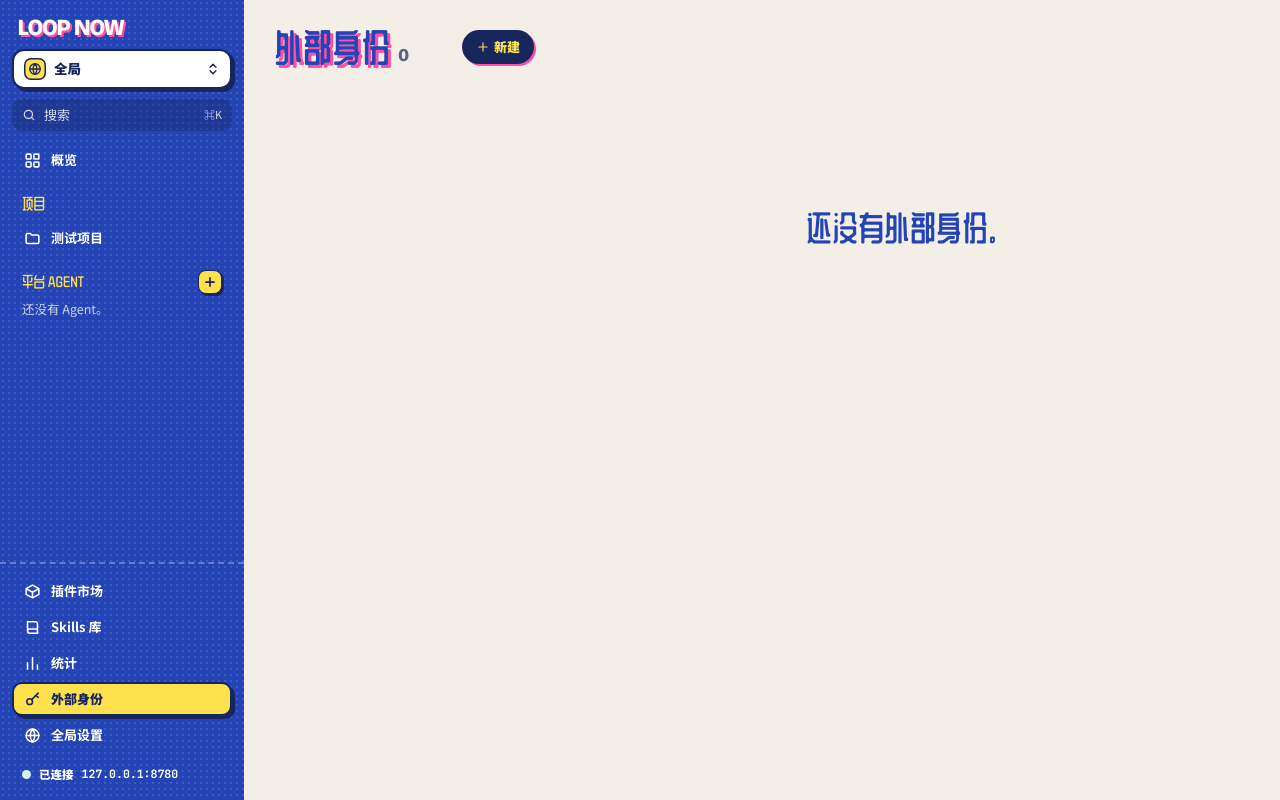
it: 创建外部身份 › 还没有外部身份时说明为空；创建 ci-bot 后它出现在列表中并被选中
The image size is (1280, 800).
Expected: the heading "外部身份0" is shown, [274,28,409,66]
Expected: the text "还没有外部身份。" is shown, [806,210,1014,244]
Click the button "新建".
click(498, 47)  # box [462,30,534,64]
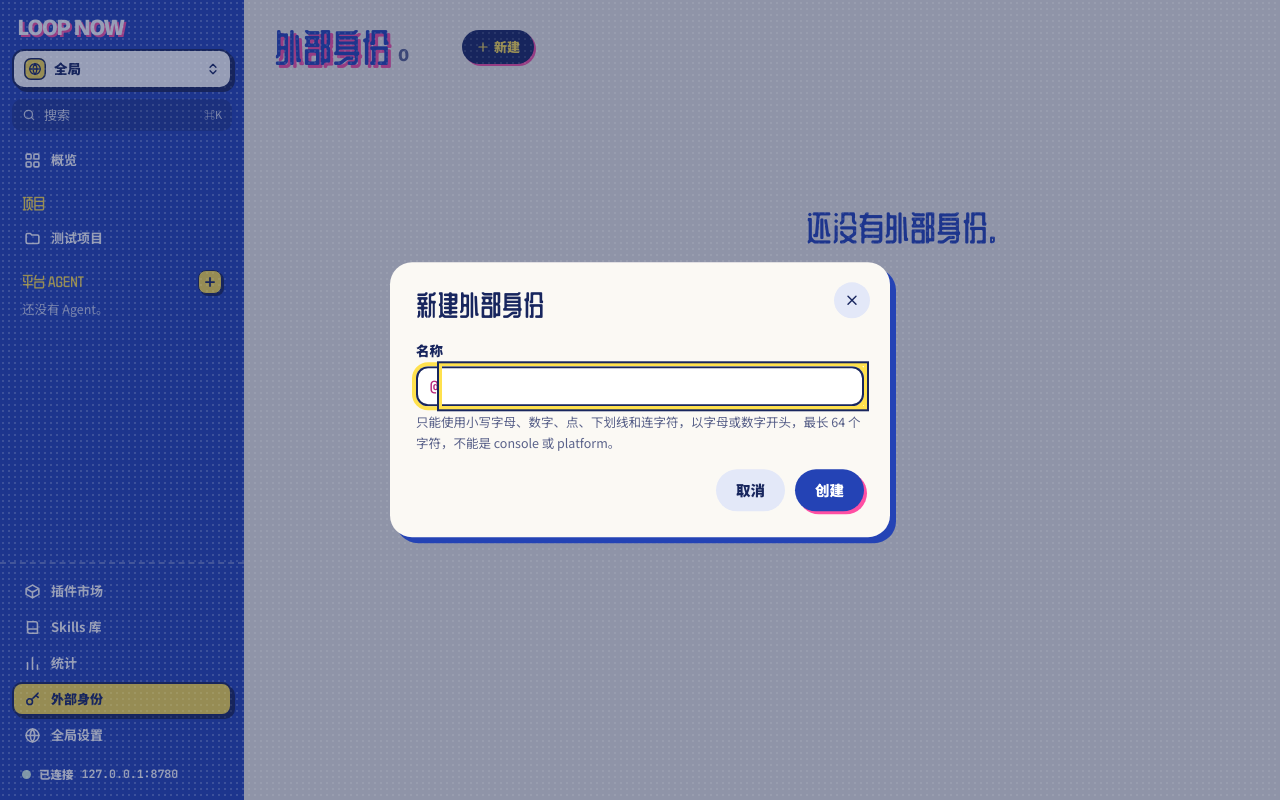
Expected: the text "不能是 console 或 platform" is shown, [416,414,860,451]
Type "ci-bot" into the field labelled "名称".
click(653, 386); type("ci-bot")  # box [442,366,864,406]
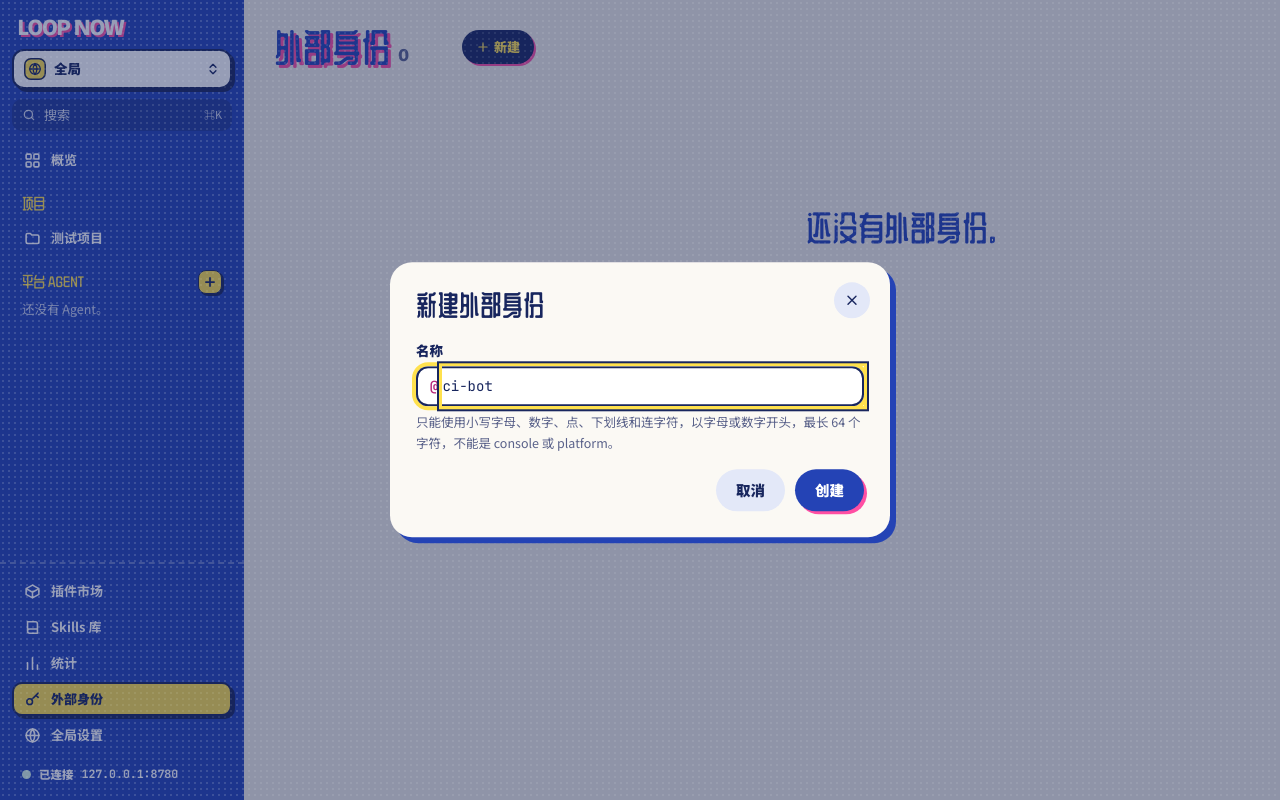
Click the button "创建".
click(830, 491)  # box [795,470,864,512]
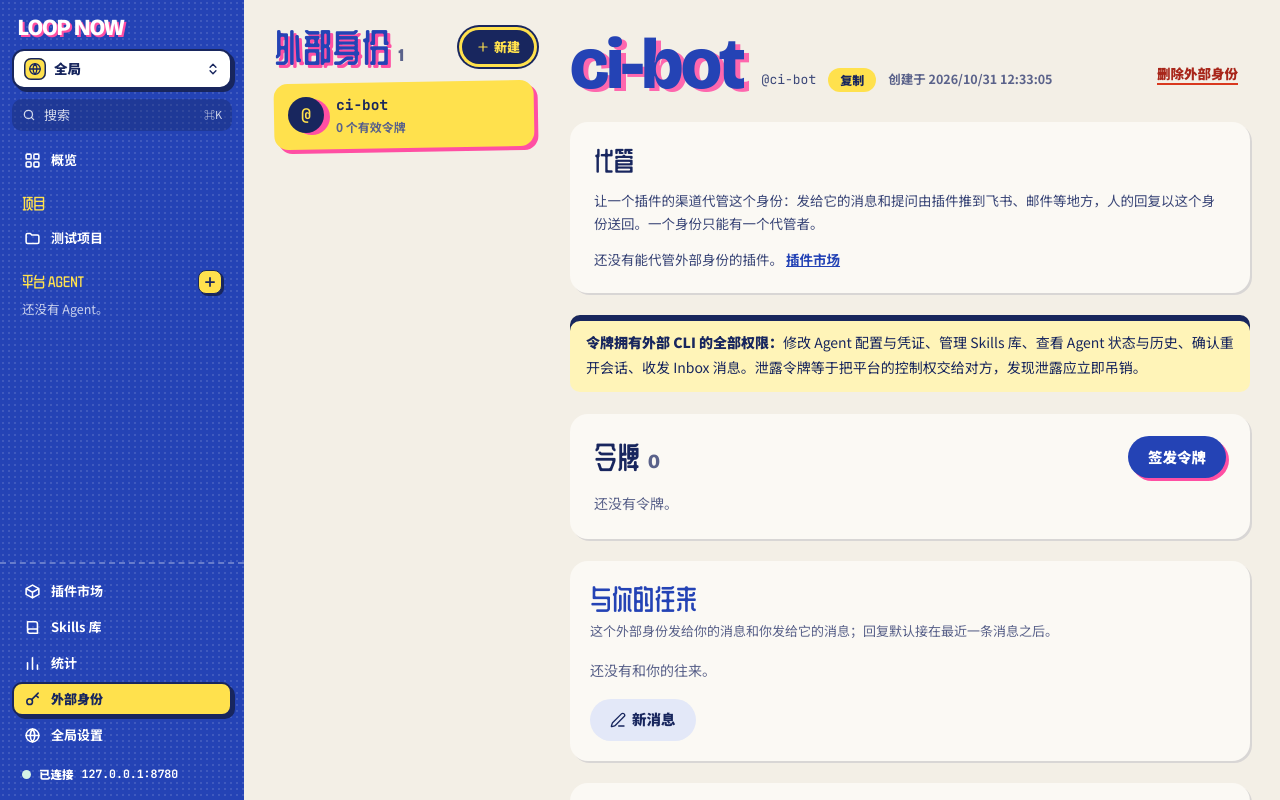
Expected: the heading "ci-bot" is shown, [570,28,744,100]
